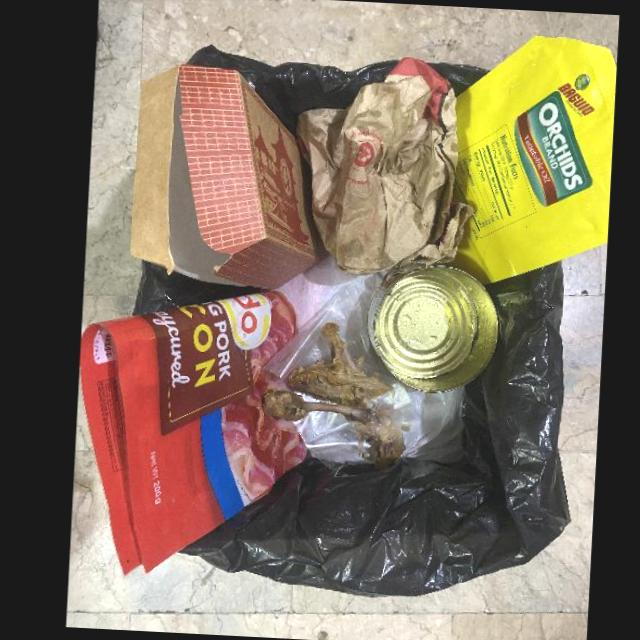bao_bi_thuc_pham: (80, 292, 308, 577), (450, 36, 617, 286)
carton: (130, 65, 318, 291)
giay: (296, 58, 474, 276)
nhom: (368, 266, 498, 393)
thuc_an_thua: (261, 389, 406, 470), (288, 322, 397, 407)
